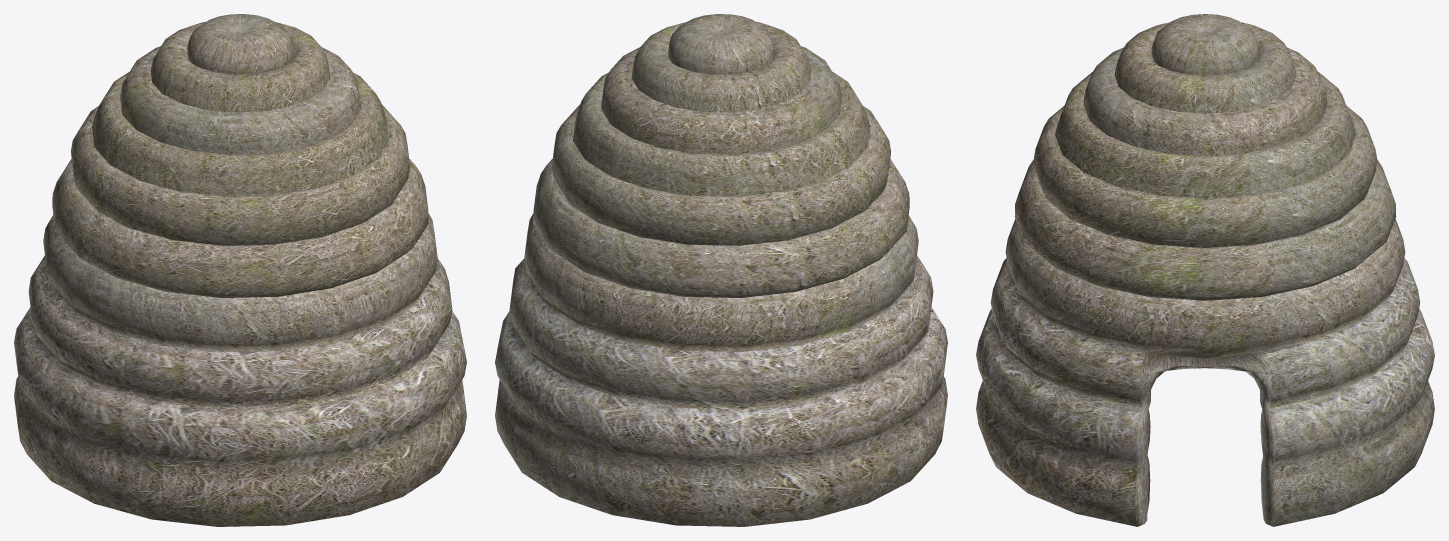
The model's file is Guardhouse.fbx.
The picture shows the model from 3 angles, left to right: view 1: azimuth 30°, elevation 25°; view 2: azimuth 150°, elevation 25°; view 3: azimuth 270°, elevation 25°; orthographic projection.
Parts seen in each view (by area): view 1: polySurface1; view 2: polySurface1; view 3: polySurface1.
Part boxes in pixels (left/top/right/bottom): polySurface1: left=14, top=14, right=466, bottom=526; polySurface1: left=495, top=14, right=947, bottom=526; polySurface1: left=976, top=14, right=1434, bottom=526.
Size of the model in its own units: 5.41 by 5.49 by 5.55.
